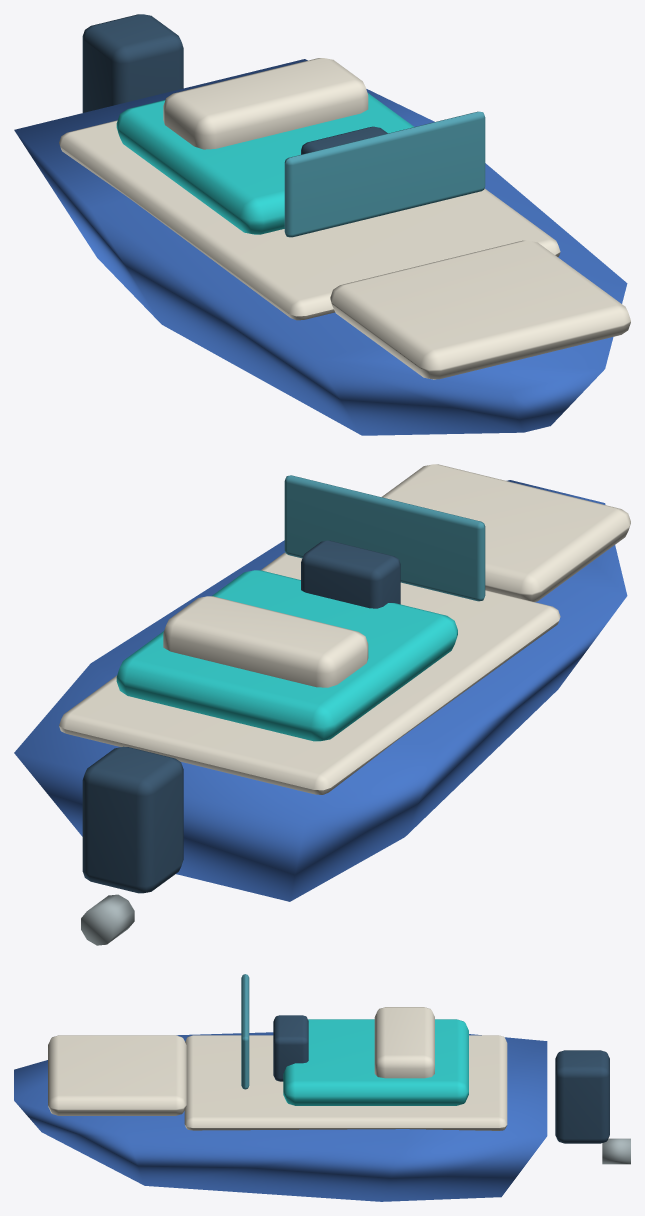
Rendered from HL_Boat_Lagoon.fbx.
3 renders of one model, top to bottom at view 1: azimuth 30°, elevation 25°; view 2: azimuth 150°, elevation 25°; view 3: azimuth 270°, elevation 25°, orthographic. The views are drawn at different scales.
Parts seen in each view (by area): view 1: Boat | faceted planing hull, Boat | upper deck, Boat | bow cap, Boat | windscreen, Boat | cockpit coaming, Boat | seats, Boat | motor housing, Boat | console; view 2: Boat | faceted planing hull, Boat | upper deck, Boat | cockpit coaming, Boat | bow cap, Boat | windscreen, Boat | motor housing, Boat | seats, Boat | console, Boat | propeller hub; view 3: Boat | faceted planing hull, Boat | upper deck, Boat | cockpit coaming, Boat | bow cap, Boat | motor housing, Boat | seats, Boat | console, Boat | windscreen, Boat | propeller hub.
Part boxes in pixels (x1,y1,x2,y2): Boat | faceted planing hull: (14,59,627,435); Boat | upper deck: (59,120,560,320); Boat | bow cap: (330,240,630,379); Boat | windscreen: (284,111,485,237); Boat | cockpit coaming: (116,93,413,234); Boat | seats: (163,58,368,149); Boat | motor housing: (82,14,183,112); Boat | console: (301,126,387,154); Boat | faceted planing hull: (14,480,627,901); Boat | upper deck: (59,552,560,794); Boat | cockpit coaming: (116,570,457,741); Boat | bow cap: (381,464,630,601); Boat | windscreen: (284,475,485,601); Boat | motor housing: (82,746,183,893); Boat | seats: (163,596,368,687); Boat | console: (301,540,400,608); Boat | propeller hub: (81,894,134,945); Boat | faceted planing hull: (14,1032,547,1201); Boat | upper deck: (184,1035,507,1130); Boat | cockpit coaming: (283,1019,468,1105); Boat | bow cap: (48,1035,186,1115); Boat | motor housing: (555,1050,609,1143); Boat | seats: (374,1007,434,1078); Boat | console: (273,1015,308,1081); Boat | windscreen: (241,974,249,1089); Boat | propeller hub: (602,1138,630,1164).
Size of the model in its own units: 206 by 135 by 472.
